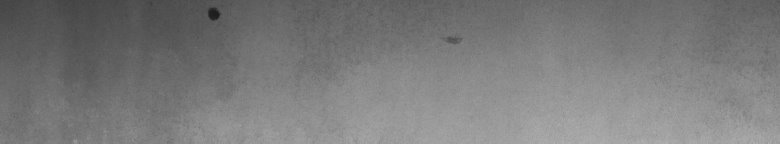fi: (203, 4, 225, 28)
